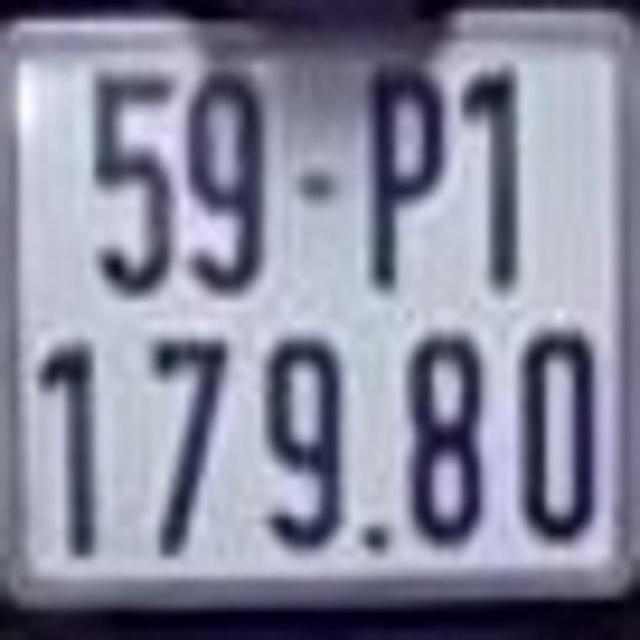0: (516, 314, 600, 551)
1: (454, 59, 532, 288), (29, 335, 107, 563)
5: (88, 63, 176, 292)
7: (141, 316, 230, 558)
8: (402, 319, 488, 547)
9: (258, 318, 346, 550), (180, 60, 264, 295)
P: (366, 58, 446, 289)
